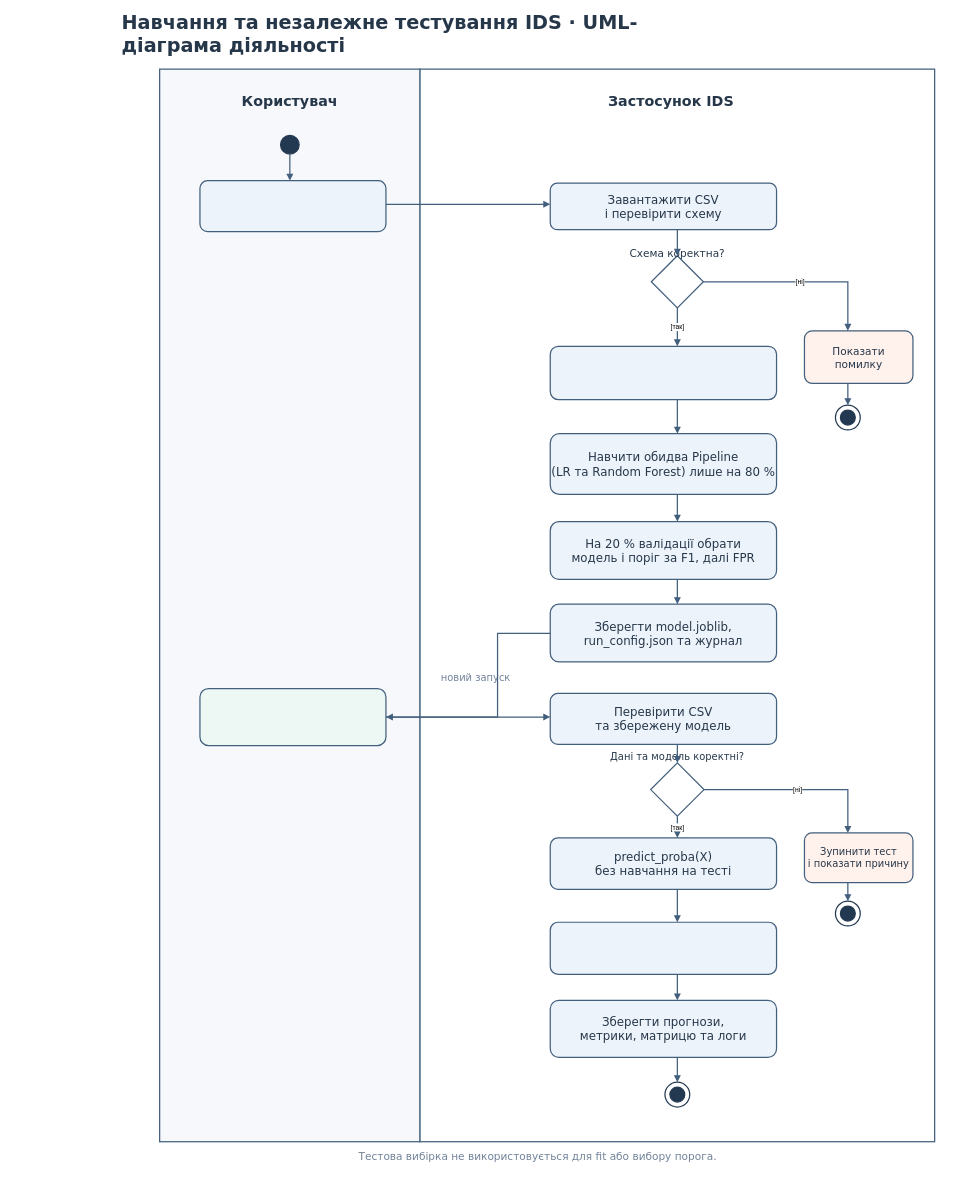
This 967x1189 diagram has some shape labels left out. Each missing label, with the box of its shape:
TN, FP, FN, TP; Precision, Recall, F1, FPR: (549, 921, 777, 975)
Вибрати офіційний навчальний CSV: (199, 180, 386, 232)
Окремо запустити тестування на testing CSV: (199, 688, 386, 746)
Поділ 80 / 20 зі стратифікацією, seed = 42: (549, 345, 777, 400)
